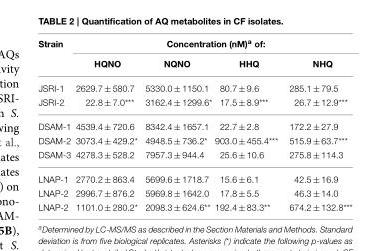table: (37, 37, 351, 211)
table column: (140, 37, 212, 211), (212, 37, 282, 211), (282, 37, 351, 211), (72, 37, 140, 211), (37, 37, 72, 211)
table column header: (37, 37, 351, 75)
table row: (37, 53, 351, 75), (37, 75, 351, 95), (37, 166, 351, 186), (37, 95, 351, 114), (37, 114, 351, 133), (37, 147, 351, 166), (37, 37, 351, 53), (37, 133, 351, 147), (37, 186, 351, 200), (37, 200, 351, 211)
table spanning cell: (72, 37, 351, 53), (37, 37, 72, 75)
